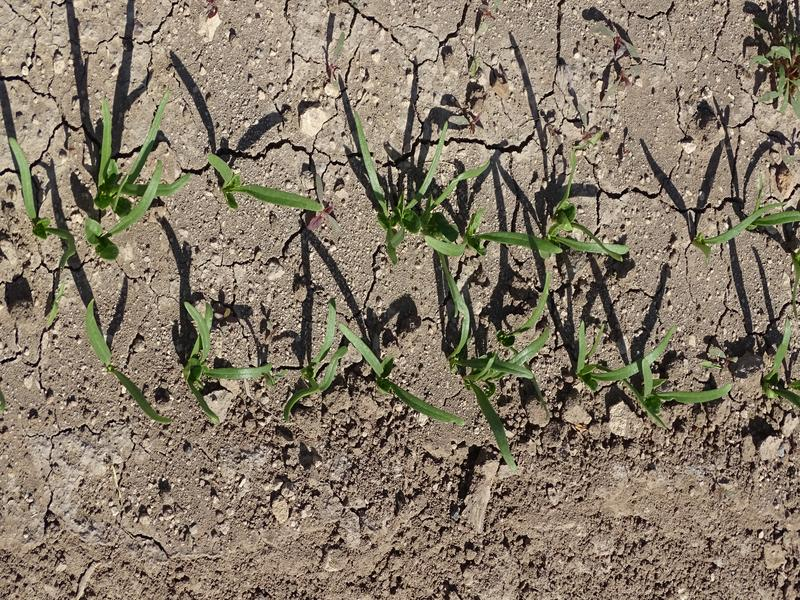Espinaca: (345, 96, 643, 255), (19, 101, 191, 249), (78, 299, 271, 419), (450, 286, 555, 461), (290, 308, 436, 427), (571, 330, 737, 411), (204, 153, 326, 215), (700, 204, 800, 250), (764, 325, 800, 408)
